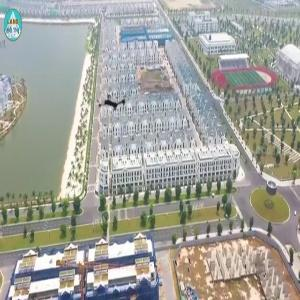drone: (87, 79, 137, 129)
